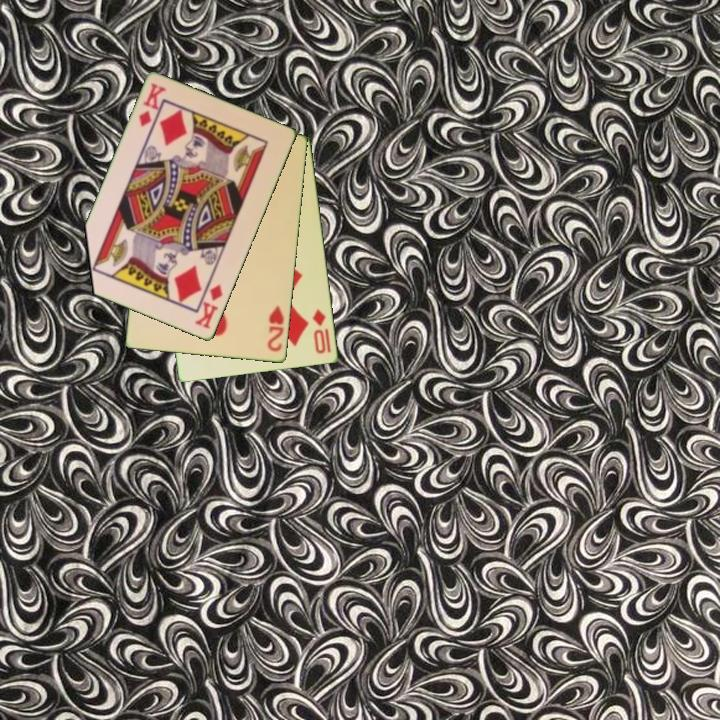10d: (309, 306, 329, 357)
2h: (264, 302, 287, 355)
Kd: (191, 281, 226, 332), (135, 80, 169, 130)
